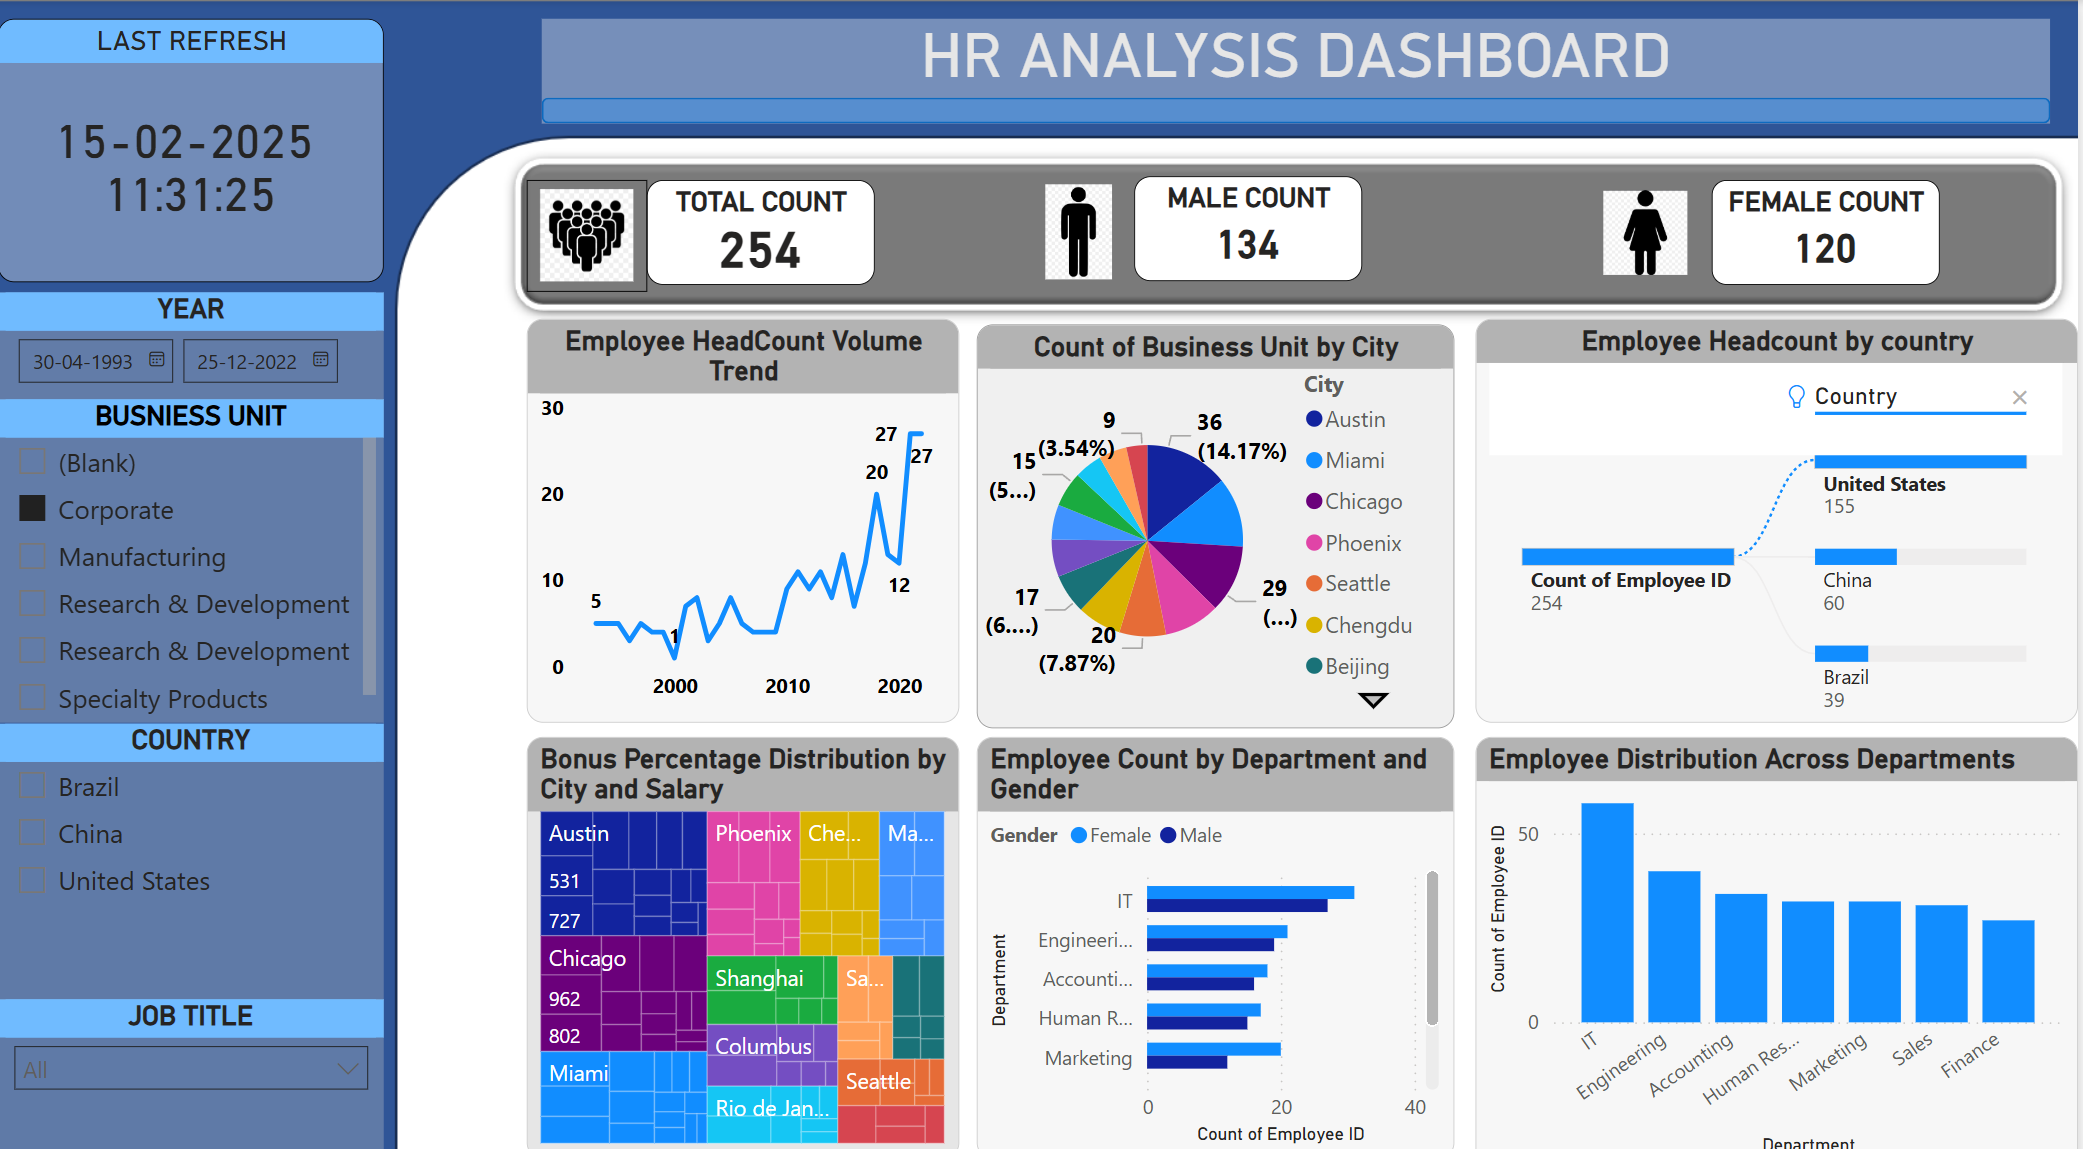

What the dashboard file says about the page in this screenshot:
{"tool":"powerbi","page":{"name":"HR analysis","canvas":[1280,720],"ordinal":0},"visuals":[{"type":"clusteredBarChart","title":"Employee Count by Department and Gender","fields":{"Series":["Employee Data.Gender"],"Y":["CountNonNull(Employee Data.Employee ID)"],"Category":["Employee Data.Department"]},"box":[602.7,453.1,293.8,259.5],"z":0},{"type":"pieChart","fields":{"Y":["CountNonNull(Employee Data.Business Unit)"],"Category":["Employee Data.City"]},"box":[602.7,199.1,293.8,248.5],"z":1000},{"type":"treemap","title":"Bonus Percentage Distribution by City and Salary","fields":{"Details":["Employee Data.Annual Salary"],"Values":["Sum(Employee Data.Bonus %)"],"Group":["Employee Data.City"]},"box":[325.4,453.1,266.4,259.5],"z":2000},{"type":"lineChart","title":"Employee HeadCount Volume Trend","fields":{"Y":["CountNonNull(Employee Data.Employee ID)"],"Category":["Employee Data.Hire Date.Variation.Date Hierarchy.Year"]},"box":[325.4,196.3,266.4,248.5],"z":3000},{"type":"card","title":"TOTAL COUNT","fields":{"Values":["CountNonNull(Employee Data.Employee ID)"]},"box":[399.5,111.2,140,64.5],"z":4000},{"type":"decompositionTreeVisual","title":"Employee Headcount by country","fields":{"Analyze":["CountNonNull(Employee Data.Employee ID)"],"ExplainBy":["Employee Data.Country"]},"box":[908.9,196.3,370.7,248.5],"z":5000},{"type":"columnChart","title":"Employee Distribution Across Departments","fields":{"Category":["Employee Data.Department"],"Y":["CountNonNull(Employee Data.Employee ID)"]},"box":[908.9,453.1,370.7,266.4],"z":6000},{"type":"slicer","title":" YEAR","fields":{"Values":["Employee Data.Hire Date"]},"box":[0,179.9,237.5,65.9],"z":7000},{"type":"slicer","title":"COUNTRY","fields":{"Values":["Employee Data.Country"]},"box":[0,444.9,237.5,170.3],"z":8000},{"type":"slicer","title":"JOB TITLE","fields":{"Values":["Employee Data.Job Title"]},"box":[0,615.1,237.5,104.3],"z":9000},{"type":"card","title":"LAST REFRESH","fields":{"Values":["Min(Query1.Query1)"]},"box":[0,11,237.5,149.7],"z":10000},{"type":"slicer","title":"BUSNIESS UNIT ","fields":{"Values":["Employee Data.Business Unit"]},"box":[0,245.8,237.5,199.1],"z":11000},{"type":"shape","title":"HR ANALYSIS DASHBOARD","box":[335,11,928.1,64.5],"z":12000},{"type":"card","title":"MALE COUNT","fields":{"Values":["Employee Data.Measure 3"]},"box":[698.9,108.5,140,64.5],"z":13000},{"type":"card","title":"FEMALE COUNT","fields":{"Values":["Employee Data.Measure 2"]},"box":[1054.5,111.2,140,64.5],"z":14000},{"type":"image","box":[631.6,108.5,67.3,68.6],"z":15000},{"type":"image","box":[325.4,111.2,74.1,68.6],"z":16000},{"type":"image","box":[983.1,107.1,61.8,71.4],"z":17000}]}

Visuals, with their boxes in screenshot pixels (x1, y1, x2, y2), scaled from the page's 1280x720 canvas onto the 2083x1149 screenshot:
"Employee Count by Department and Gender" clusteredBarChart: 981/723/1459/1137
pieChart - CountNonNull(Employee Data.Business Unit) x Employee Data.City: 981/318/1459/714
"Bonus Percentage Distribution by City and Salary" treemap: 530/723/963/1137
"Employee HeadCount Volume Trend" lineChart: 530/313/963/710
"TOTAL COUNT" card: 650/177/878/280
"Employee Headcount by country" decompositionTreeVisual: 1479/313/2082/710
"Employee Distribution Across Departments" columnChart: 1479/723/2082/1148
" YEAR" slicer: 0/287/386/392
"COUNTRY" slicer: 0/710/386/982
"JOB TITLE" slicer: 0/982/386/1148
"LAST REFRESH" card: 0/18/386/256
"BUSNIESS UNIT " slicer: 0/392/386/710
"HR ANALYSIS DASHBOARD" shape: 545/18/2055/120
"MALE COUNT" card: 1137/173/1365/276
"FEMALE COUNT" card: 1716/177/1944/280
image: 1028/173/1137/283
image: 530/177/650/287
image: 1600/171/1700/285
